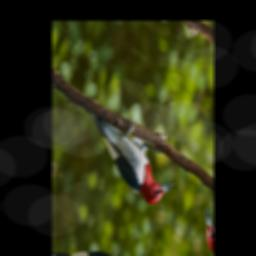Woodpecker: (74, 88, 181, 217)
